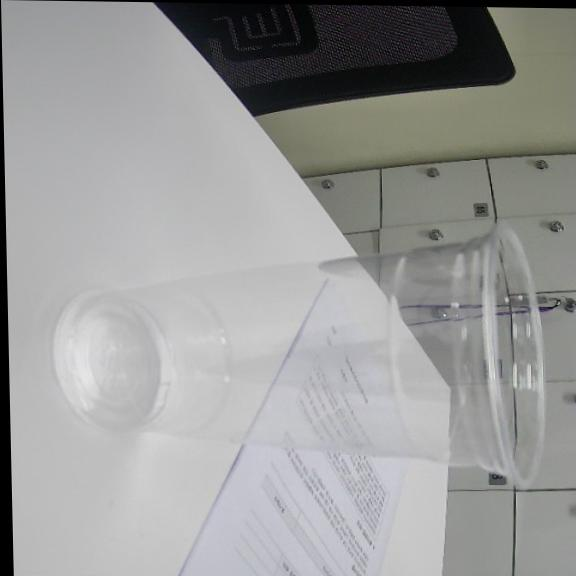Plastik: (53, 223, 544, 486)
